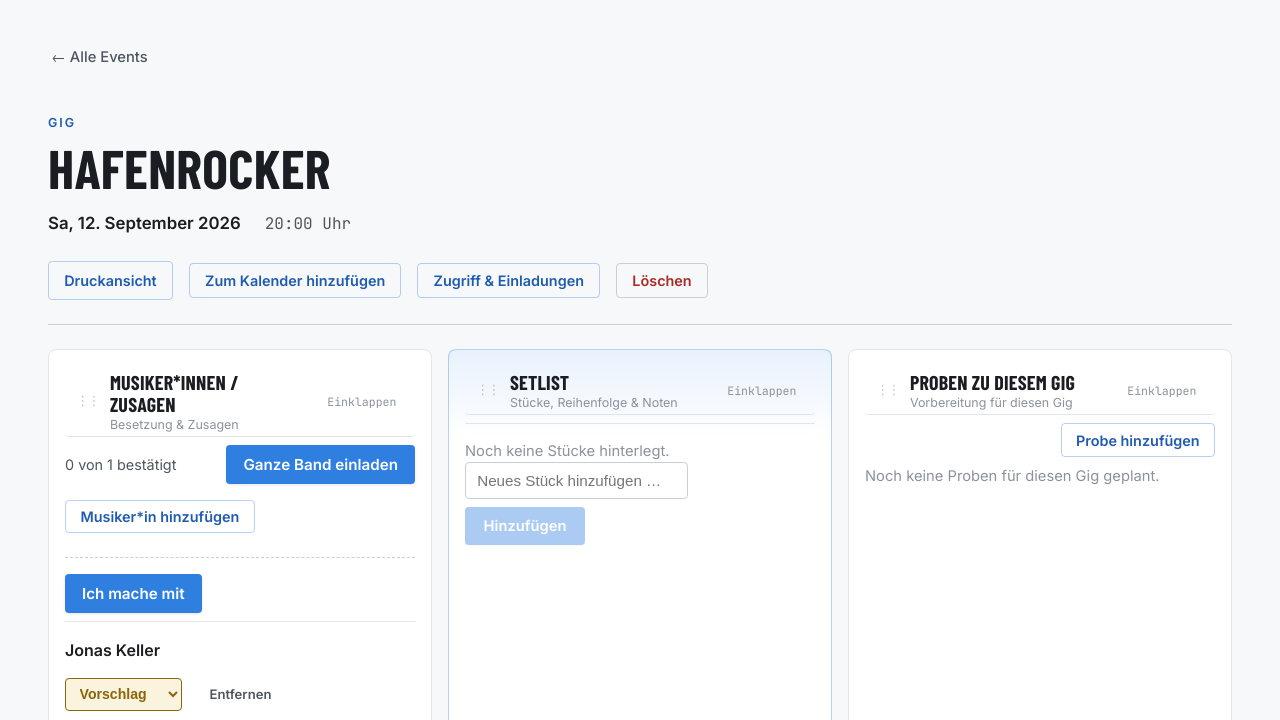
EventDetailComponent › should save a suggested status
Select "Vorschlag" in the dropdown with id "status-2" at (124, 694), box x1=65 y1=678 x2=182 y2=711
(page scrolled)
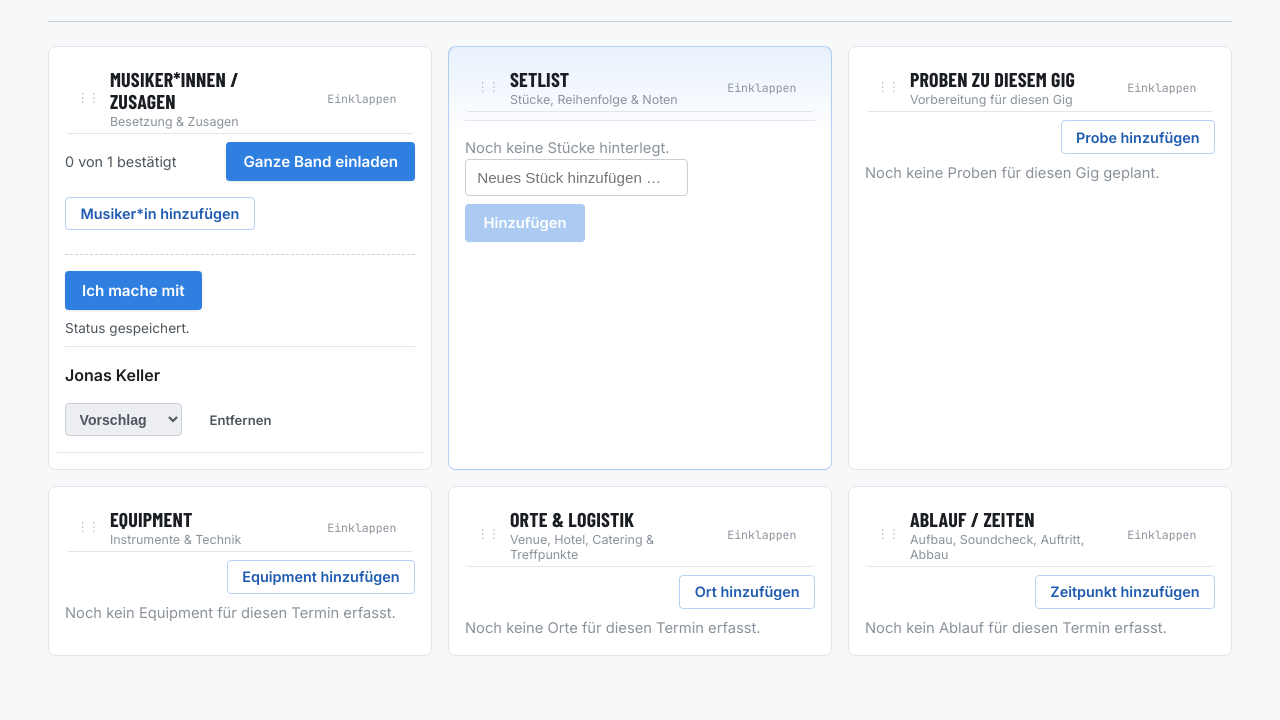
Expected: the text "Status gespeichert." is shown, x1=65 y1=320 x2=190 y2=336
